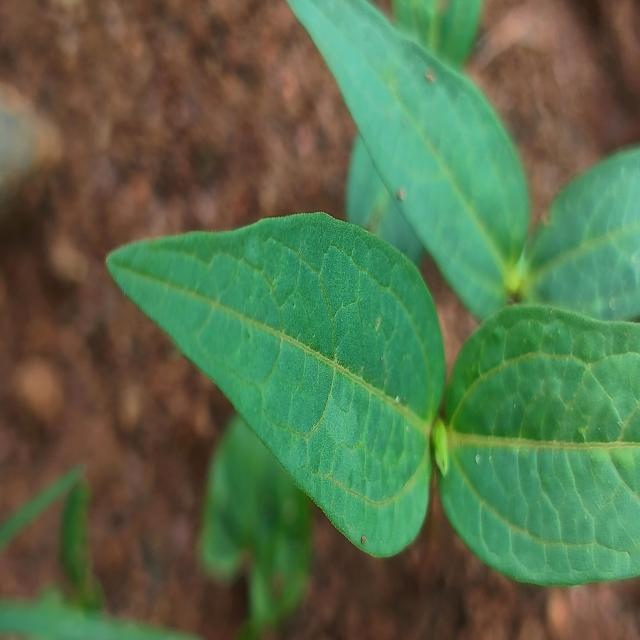Black gram_healthy: (107, 210, 449, 549), (288, 0, 528, 313), (443, 304, 640, 583)
